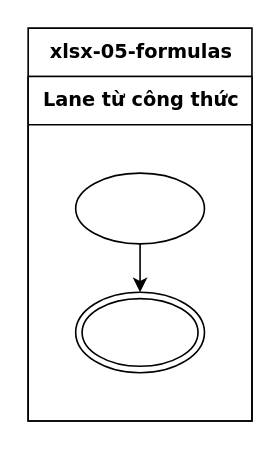
This 280x449 diagram has some shape labels left out. The shapes that lost their labels are listed below. From the top down, each one's centre as x and y in pixels, then its label:
the point at 139,207: Vào
the point at 139,332: Xong
